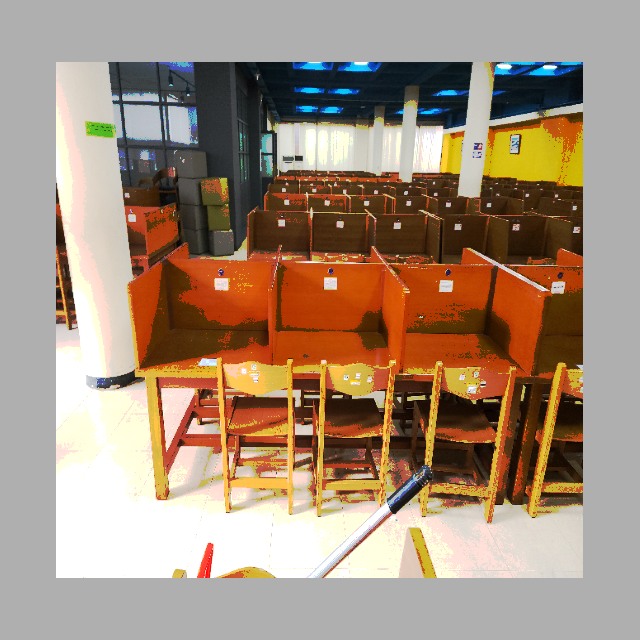empty: (135, 265, 267, 433), (276, 263, 404, 422), (408, 265, 528, 429)
